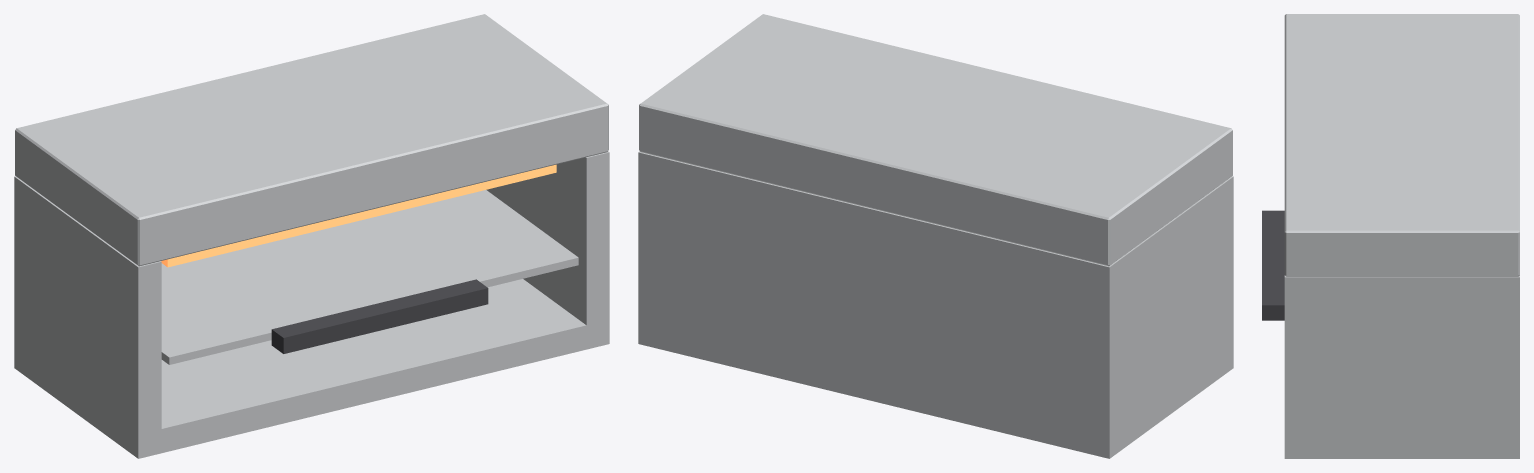
Rendered from NSF-SALAMANDER-36.glb.
3 renders of one model, left to right at view 1: azimuth 30°, elevation 25°; view 2: azimuth 150°, elevation 25°; view 3: azimuth 270°, elevation 25°, orthographic. The views are drawn at different scales.
Visible parts, largest first — view 1: asset_nsf_salamander_36, asset_nsf_salamander_36_rack_carriage; view 2: asset_nsf_salamander_36; view 3: asset_nsf_salamander_36, asset_nsf_salamander_36_rack_carriage.
Part boxes in pixels (left/top/right/bottom): asset_nsf_salamander_36: left=14, top=14, right=609, bottom=458; asset_nsf_salamander_36_rack_carriage: left=161, top=190, right=578, bottom=364; asset_nsf_salamander_36: left=638, top=14, right=1233, bottom=458; asset_nsf_salamander_36: left=1284, top=14, right=1519, bottom=458; asset_nsf_salamander_36_rack_carriage: left=1262, top=210, right=1284, bottom=320.
Size of the model in its own units: 0.914 by 0.445 by 0.457.
